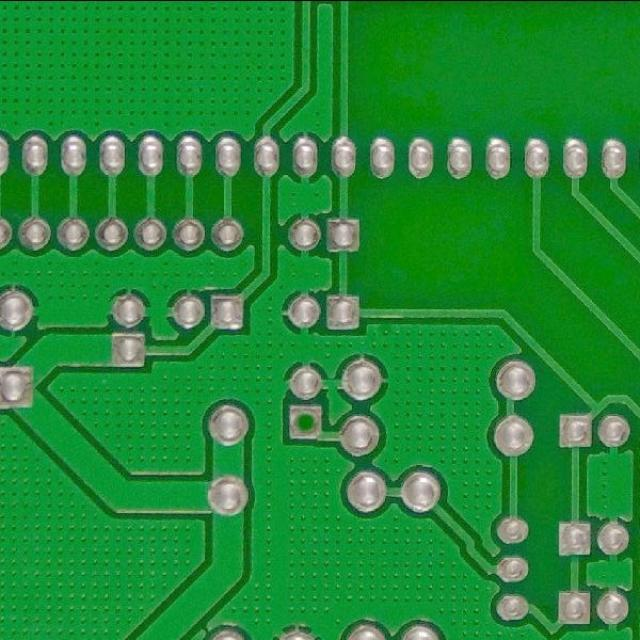Missing_Hole: (284, 399, 327, 444)
